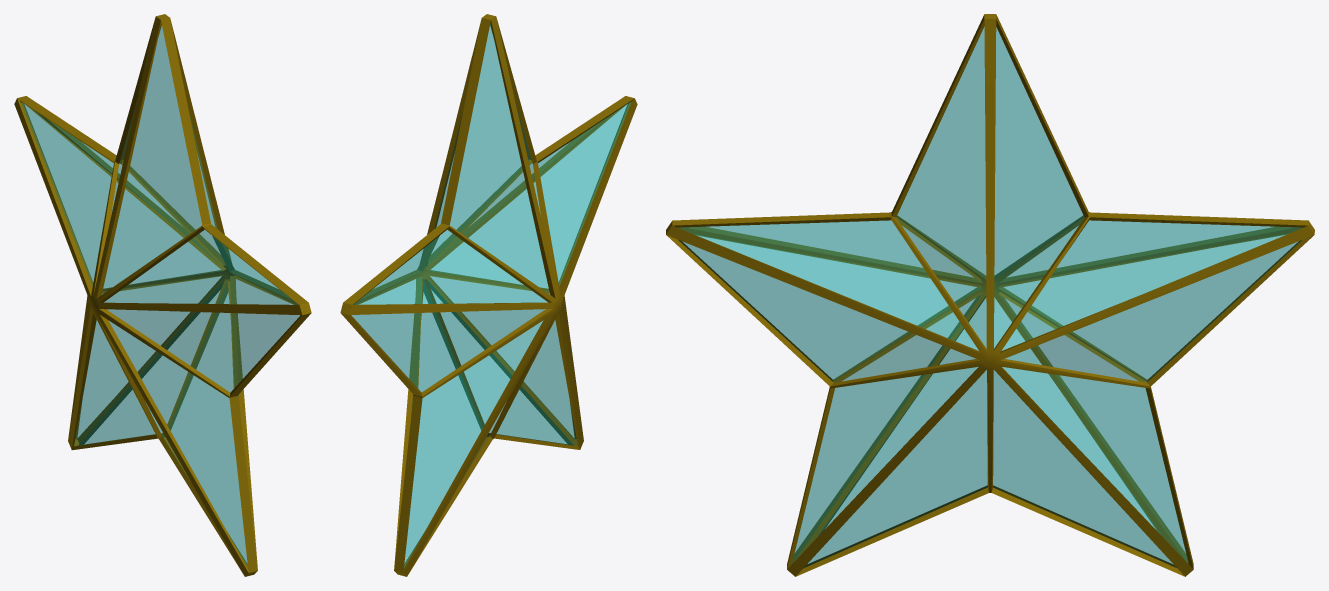
File: StartFBX.fbx
3 renders of one model, left to right at view 1: azimuth 30°, elevation 25°; view 2: azimuth 150°, elevation 25°; view 3: azimuth 270°, elevation 25°, orthographic. The views are drawn at different scales.
Visible parts, largest first — view 1: Star; view 2: Star; view 3: Star.
Part boxes in pixels (<box>): Star: <box>14,14,311,576</box>; Star: <box>340,14,637,576</box>; Star: <box>666,14,1314,576</box>.
Size of the model in its own units: 0.5033 by 1.74 by 1.84.
